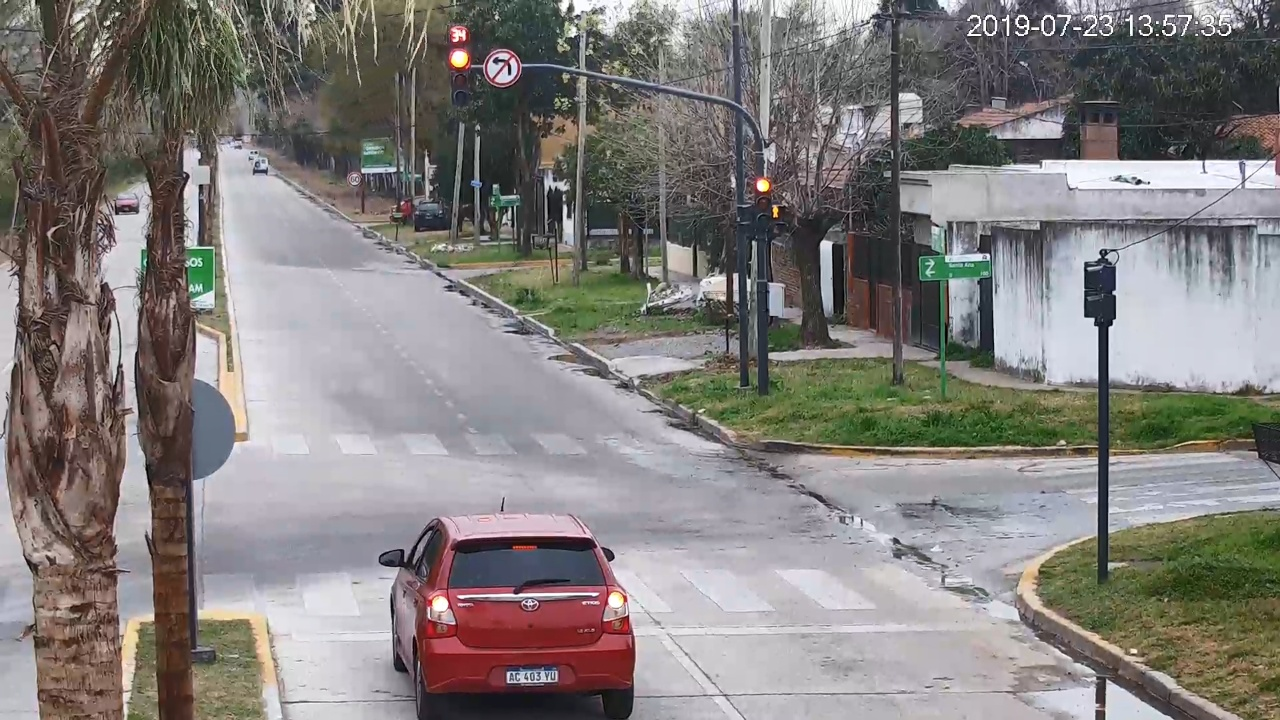car: (378, 513, 637, 720)
traffic light: (450, 45, 471, 106), (755, 177, 771, 228)
